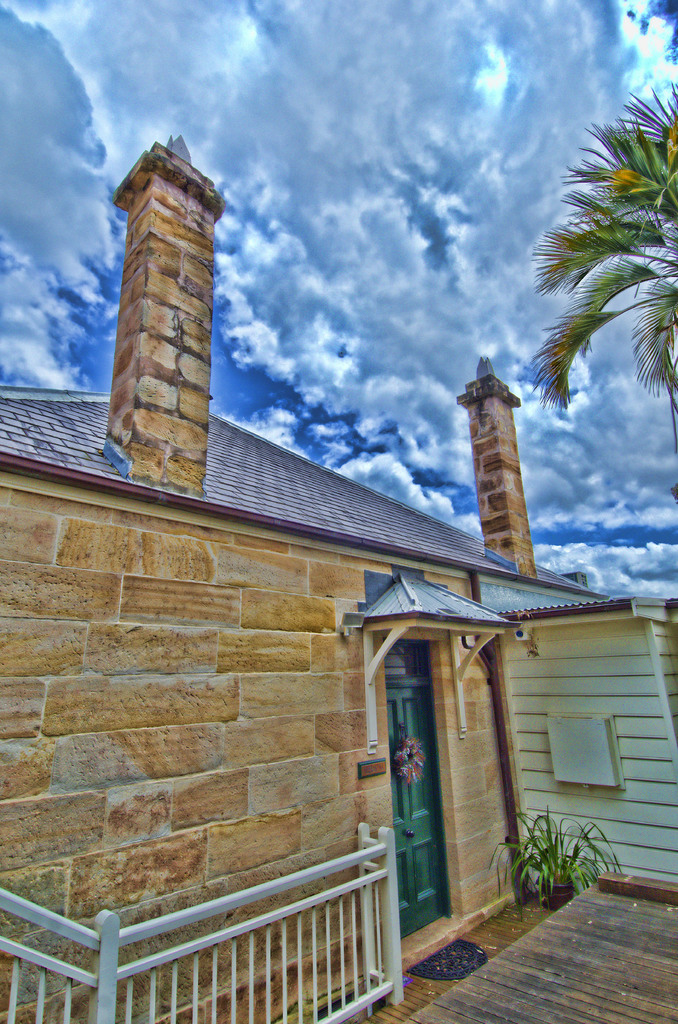Tree: (526, 79, 667, 457), (498, 808, 603, 901)
